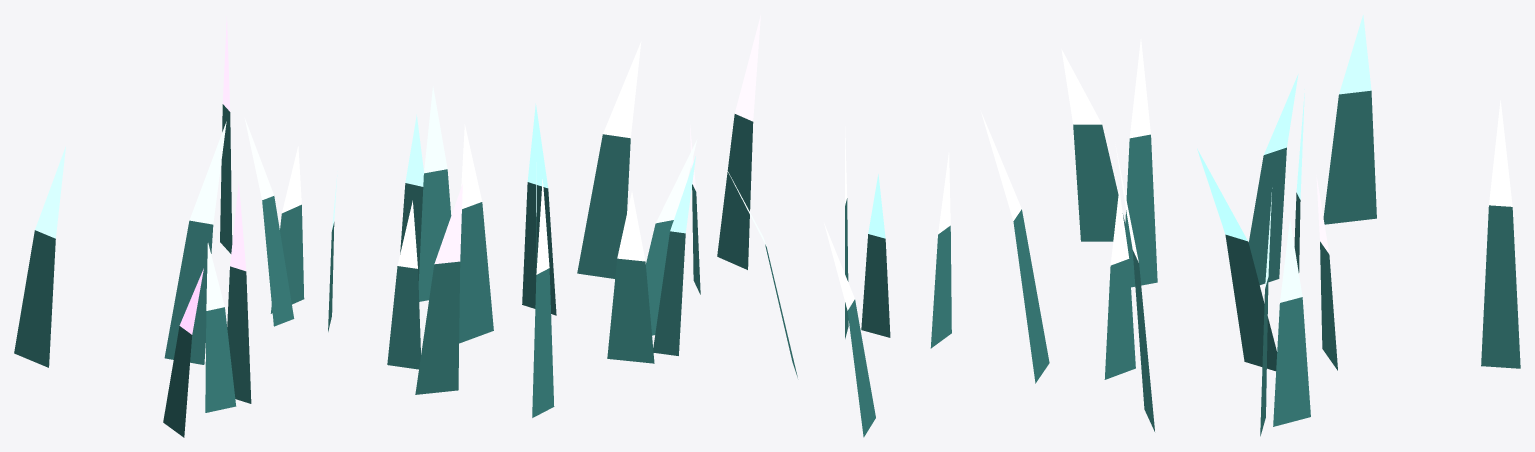
The model's file is grass_tuft_a.glb.
3 renders of one model, left to right at view 1: azimuth 30°, elevation 25°; view 2: azimuth 150°, elevation 25°; view 3: azimuth 270°, elevation 25°, orthographic. The views are drawn at different scales.
Visible parts, largest first — view 1: grass_tuft_a; view 2: grass_tuft_a; view 3: grass_tuft_a.
Boxes of the visible parts, x1,y1,x2,y2 form: grass_tuft_a: [14, 16, 493, 437]; grass_tuft_a: [522, 15, 951, 437]; grass_tuft_a: [980, 15, 1520, 436].
Bounding box in the file's own units: 0.3533 × 0.2021 × 0.3678.
